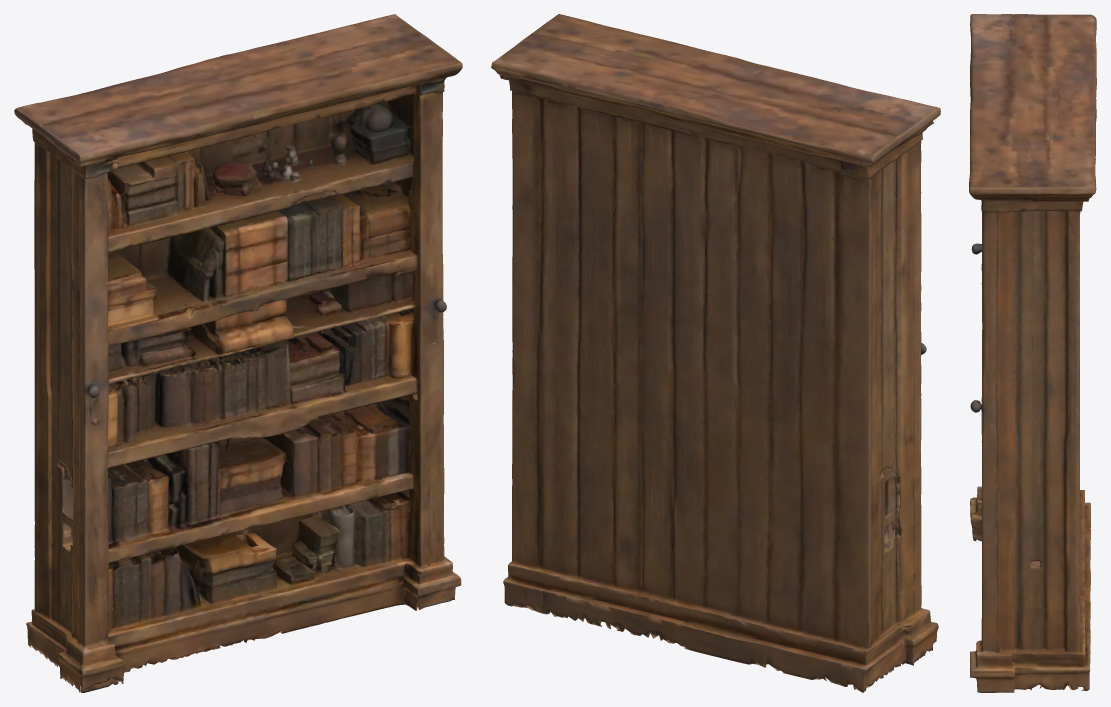
The model's file is shelf.glb.
3 renders of one model, left to right at view 1: azimuth 30°, elevation 25°; view 2: azimuth 150°, elevation 25°; view 3: azimuth 270°, elevation 25°, orthographic. The views are drawn at different scales.
Visible parts, largest first — view 1: Mesh_0; view 2: Mesh_0; view 3: Mesh_0.
Boxes of the visible parts, <box> form: Mesh_0: <box>14,14,462,692</box>; Mesh_0: <box>491,14,940,692</box>; Mesh_0: <box>969,14,1096,692</box>.
Bounding box in the file's own units: 1.48 × 2 × 0.4564.
1 material, 1 textured.
